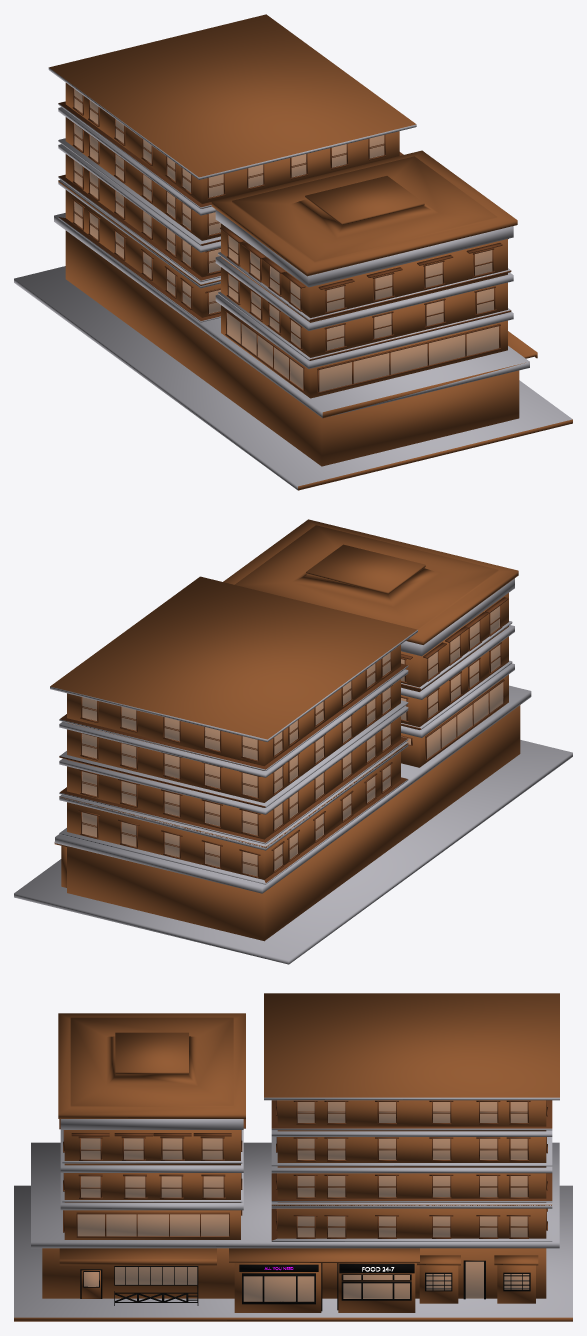
File: apartment2.glb
3 renders of one model, top to bottom at view 1: azimuth 30°, elevation 25°; view 2: azimuth 150°, elevation 25°; view 3: azimuth 270°, elevation 25°, orthographic.
Visible parts, largest first — view 1: Small Apartment Building1; view 2: Small Apartment Building1; view 3: Small Apartment Building1.
Part boxes in pixels (left/top/right/bottom): Small Apartment Building1: left=14, top=14, right=572, bottom=490; Small Apartment Building1: left=14, top=519, right=572, bottom=964; Small Apartment Building1: left=14, top=993, right=572, bottom=1321.
Bounding box in the file's own units: 36.81 × 27.28 × 65.86.
